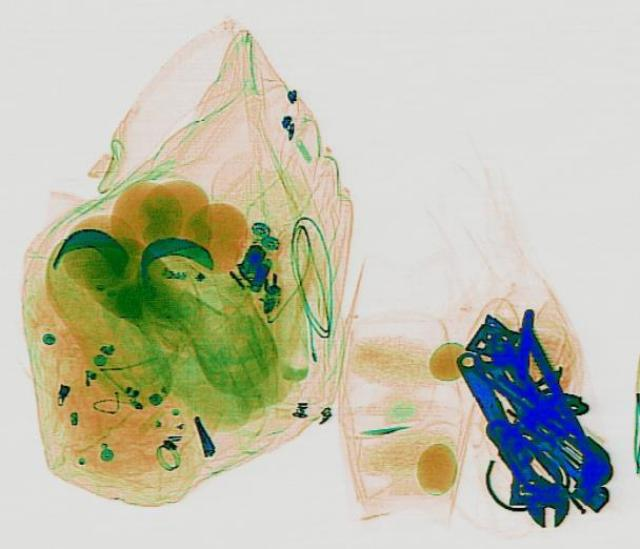Wrench: (440, 343, 580, 531)
